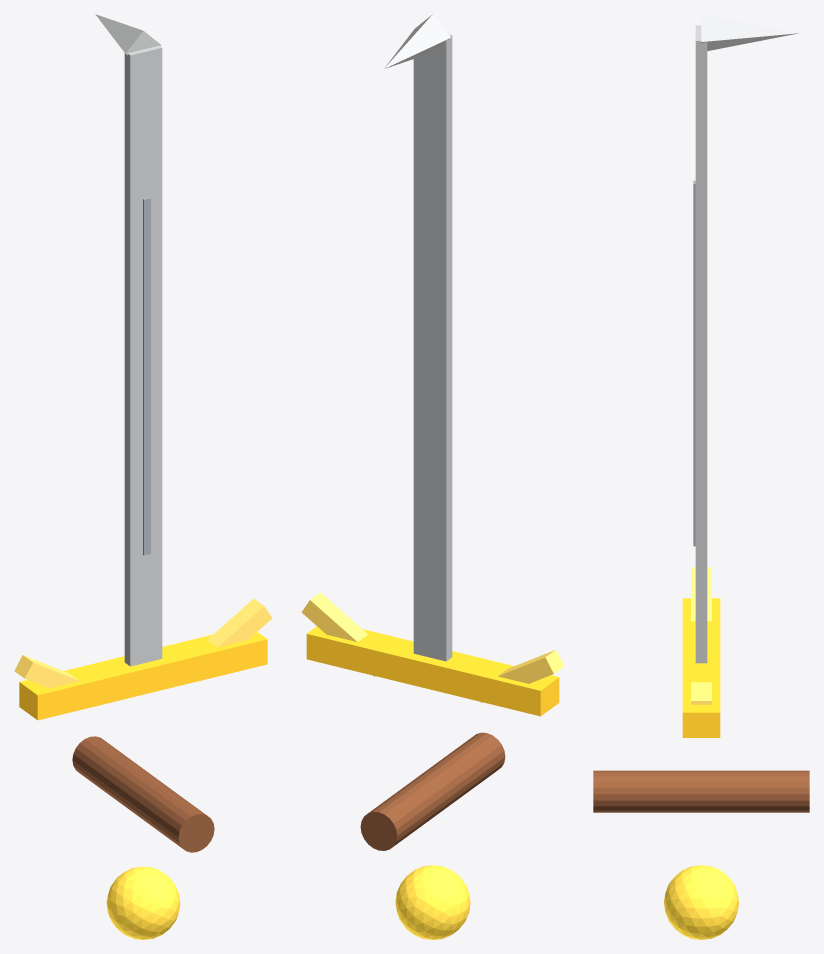
Rendered from emberblade.glb.
3 views of the same model, side by side, from view 1: azimuth 30°, elevation 25°; view 2: azimuth 150°, elevation 25°; view 3: azimuth 270°, elevation 25° (orthographic).
Parts seen in each view (by area): view 1: blade, guard, grip, pommel, fuller, wing_1, wing_-1, point; view 2: blade, guard, grip, pommel, wing_1, point, wing_-1; view 3: grip, blade, pommel, guard, point, fuller, wing_-1, wing_1.
Boxes of the visible parts, box(x1,y1,x2,y2) form: blade: box(124, 45, 162, 666); guard: box(19, 632, 267, 720); grip: box(72, 736, 214, 852); pommel: box(106, 866, 180, 939); fuller: box(143, 197, 150, 555); wing_1: box(200, 598, 272, 681); wing_-1: box(14, 655, 96, 706); point: box(95, 14, 161, 55); blade: box(413, 34, 452, 661); guard: box(306, 626, 559, 716); grip: box(360, 732, 505, 850); pommel: box(395, 865, 470, 939); wing_1: box(301, 592, 374, 676); point: box(384, 14, 450, 68); wing_-1: box(480, 650, 564, 702); grip: box(593, 770, 809, 812); blade: box(695, 25, 707, 663); pommel: box(664, 865, 738, 939); guard: box(682, 598, 720, 737); point: box(701, 14, 799, 50); fuller: box(693, 180, 695, 546); wing_-1: box(691, 567, 711, 621); wing_1: box(691, 682, 711, 704).
Size of the model in its own units: 1.24 by 4.33 by 0.92.
